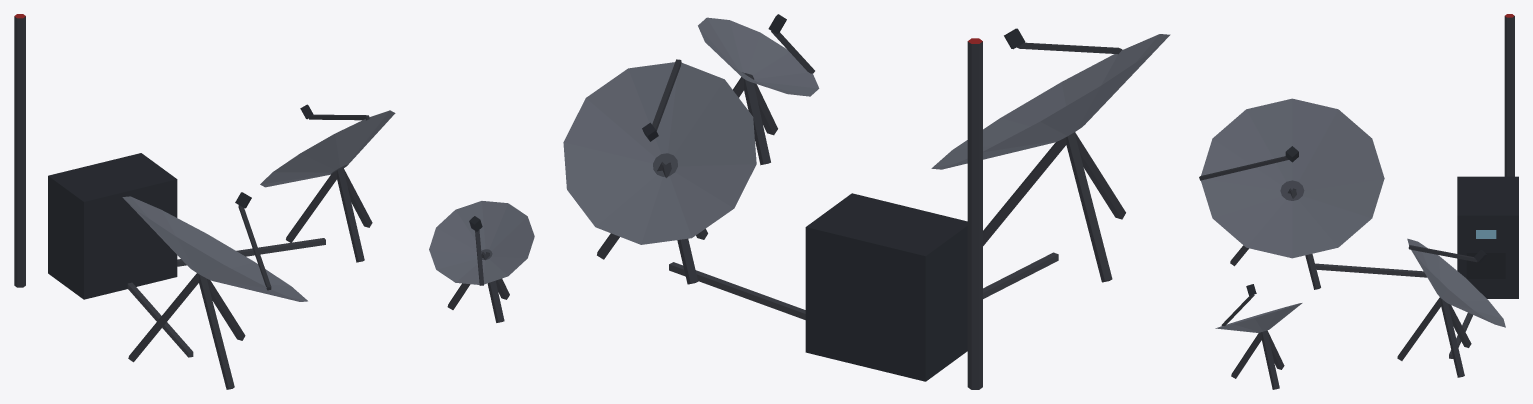
The model's file is mc-satellite_farm.glb.
3 renders of one model, left to right at view 1: azimuth 30°, elevation 25°; view 2: azimuth 150°, elevation 25°; view 3: azimuth 270°, elevation 25°, orthographic. The views are drawn at different scales.
Visible parts, largest first — view 1: prop_satellite_farm; view 2: prop_satellite_farm; view 3: prop_satellite_farm.
Part boxes in pixels (<box>): prop_satellite_farm: <box>14,14,534,389</box>; prop_satellite_farm: <box>563,14,1170,389</box>; prop_satellite_farm: <box>1199,14,1518,389</box>.
Size of the model in its own units: 3.53 by 2.48 by 3.12.
1 material, 1 textured.
